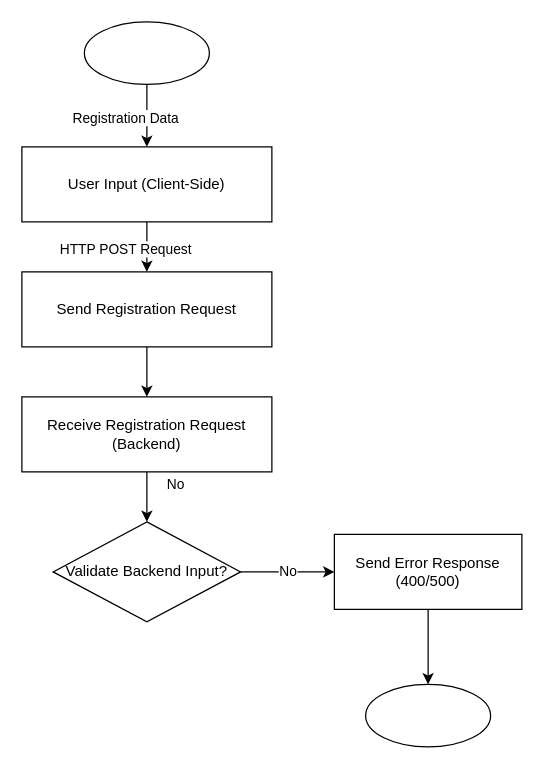
Some shapes in this 544 by 769 pixel diagram are drawn without their labels. The shapes that lost their labels are listed below. From the top down, each one's centre as x and y in pixels, then its label:
At [146,52]: "Start".
At [427,715]: "End".
